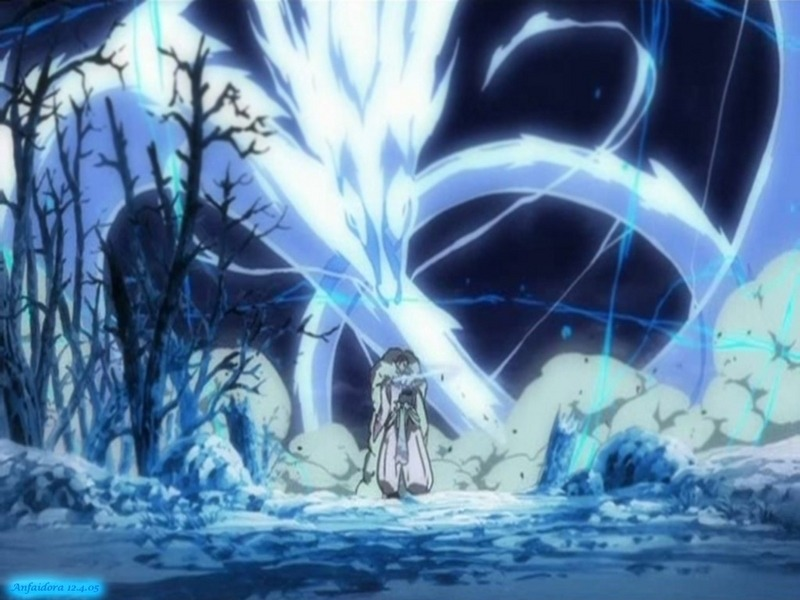sesshomaru: (365, 348, 437, 499)
